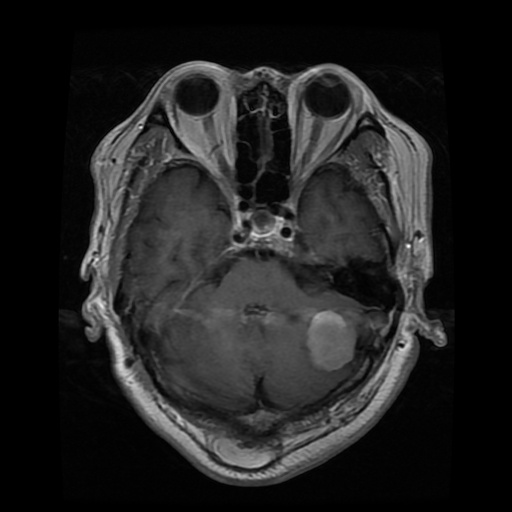meningioma: (308, 311, 356, 368)
